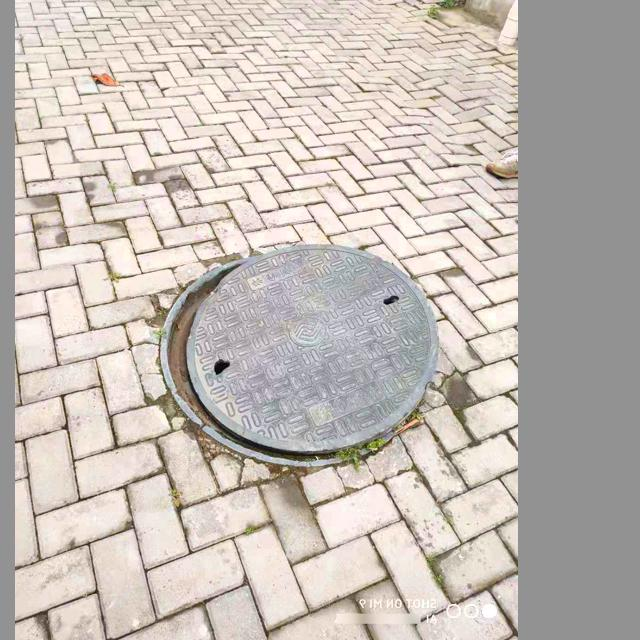uncovered: (160, 244, 439, 466)
